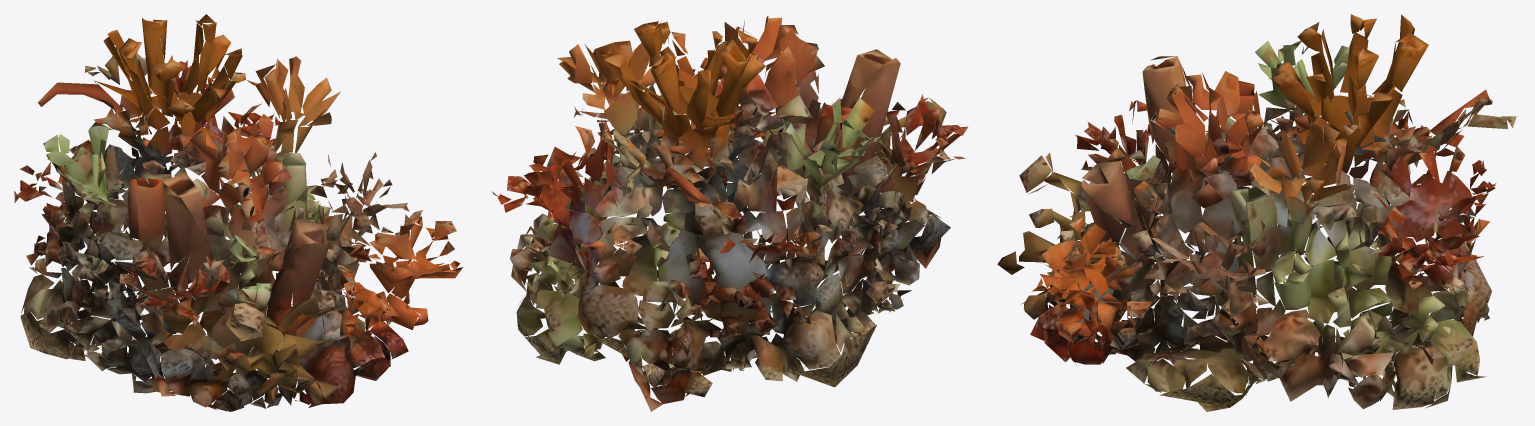
Rendered from reefmass_b.glb.
3 views of the same model, side by side, from view 1: azimuth 30°, elevation 25°; view 2: azimuth 150°, elevation 25°; view 3: azimuth 270°, elevation 25° (orthographic). The views are drawn at different scales.
Visible parts, largest first — view 1: tripo_node_9442da72-9c15-41b5-add9-ef277f1ea154; view 2: tripo_node_9442da72-9c15-41b5-add9-ef277f1ea154; view 3: tripo_node_9442da72-9c15-41b5-add9-ef277f1ea154.
Part boxes in pixels (x1,y1,x2,y2): tripo_node_9442da72-9c15-41b5-add9-ef277f1ea154: [14, 14, 462, 411]; tripo_node_9442da72-9c15-41b5-add9-ef277f1ea154: [492, 16, 967, 411]; tripo_node_9442da72-9c15-41b5-add9-ef277f1ea154: [997, 14, 1516, 411].
Bounding box in the file's own units: 0.7526 × 0.7455 × 1.
1 material, 1 textured.
